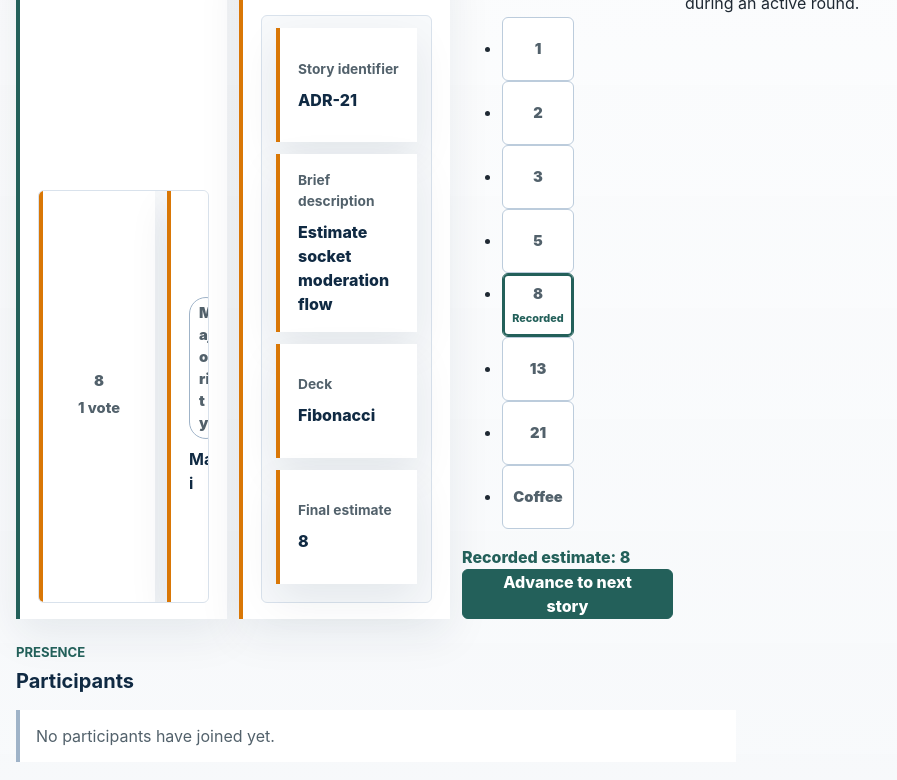
Test: ModeratorSessionView › shows advance control only when a final estimate exists and clears the active story after success
(page scrolled)
What coordinates should you click on to do the following:
click the button "Advance to next story"
I would click on:
 (568, 594)
Its box is [462,569,673,619].
(page scrolled)
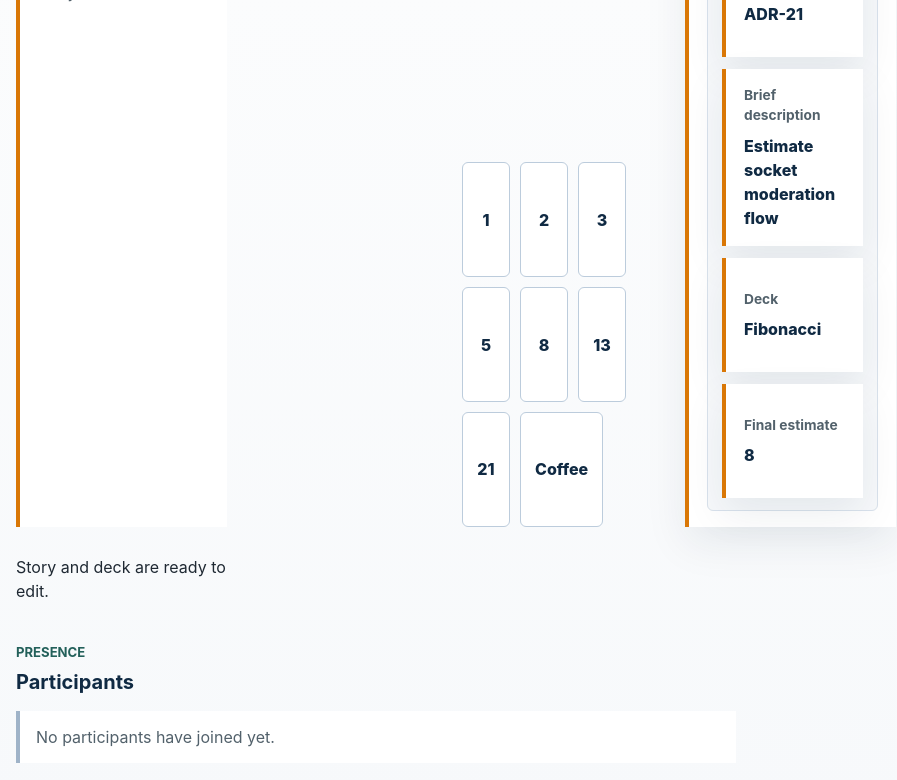
Expected: the text "ADR-21" is shown, [744,4,803,24]
Expected: the button "Advance to next story" is gone
